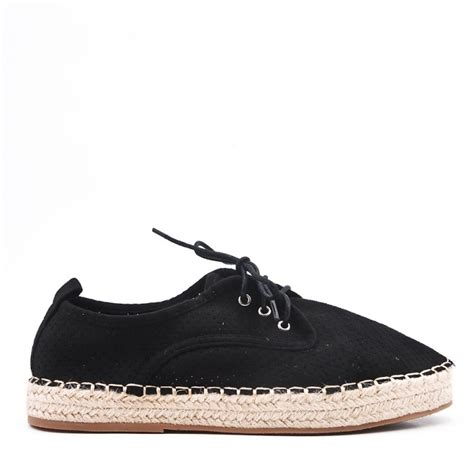gamuza: (30, 269, 448, 388)
